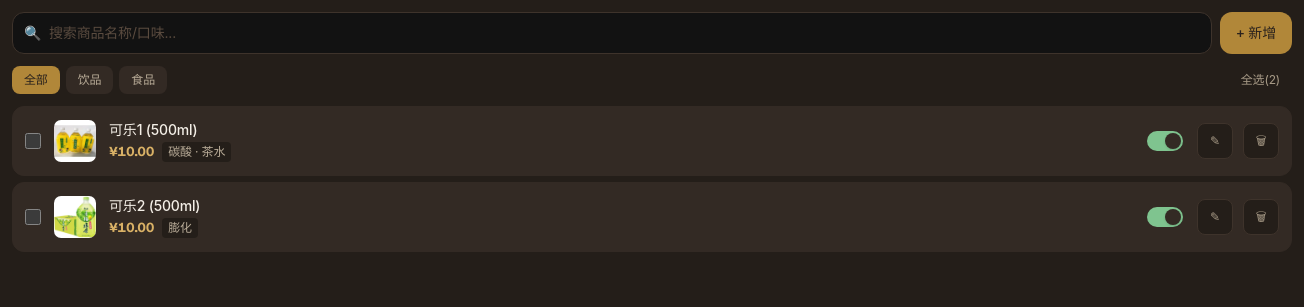
Test: 行内操作与内联展开铁律 › 单条删除失败 → error 播报（不静默）
The image size is (1304, 307).
行内两步确认：第一下点亮成「确认删除该商品」，第二下才真删
Click the button named "删除商品": (1261, 141) left=1243, top=123, right=1279, bottom=159
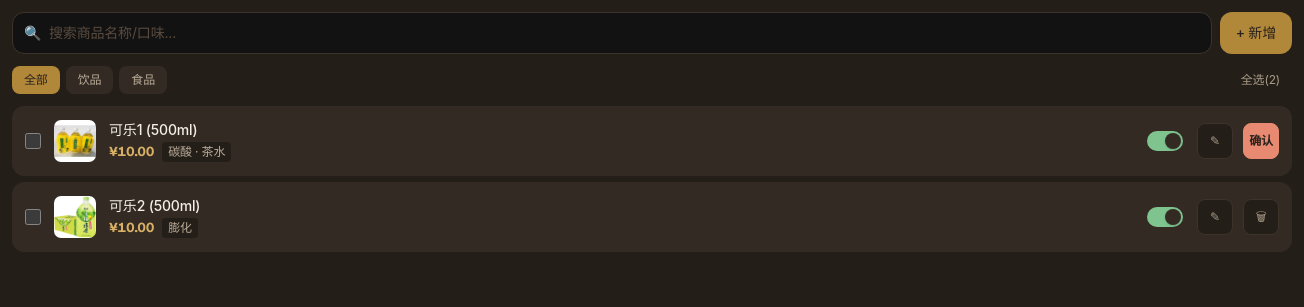
Expected: the button with aria-label "确认删除该商品（不可撤销）" is shown
Click the button with aria-label "确认删除该商品（不可撤销）": (1261, 141) left=1243, top=123, right=1279, bottom=159
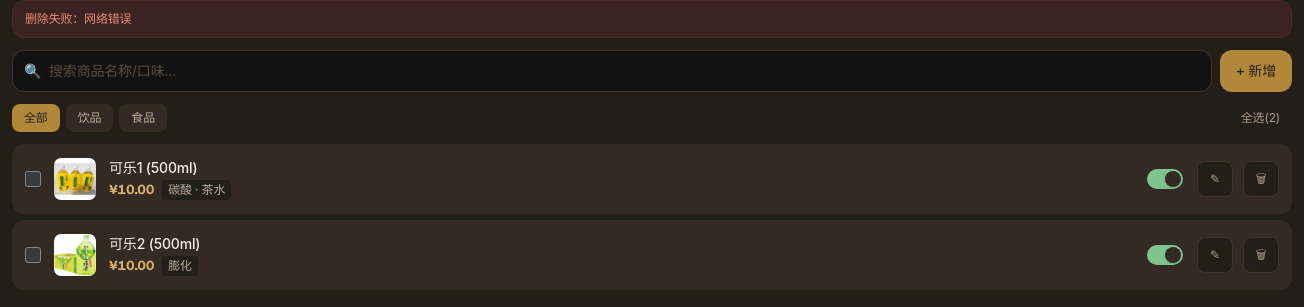
Expected: the message reads "删除失败：网络错误", left=25, top=11, right=131, bottom=26
